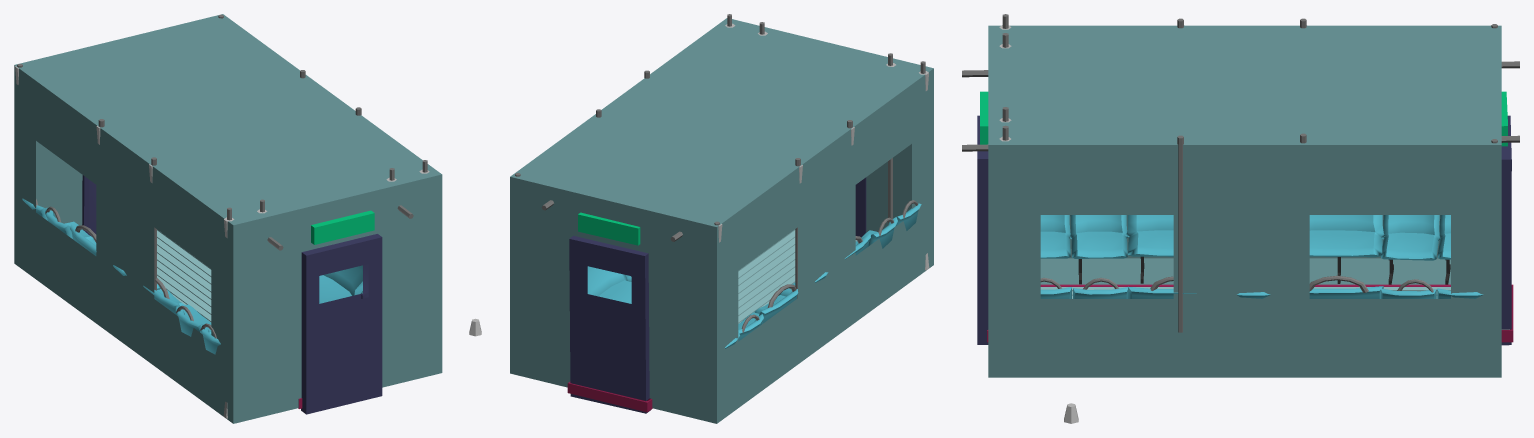
The model's file is train car.fbx.
3 views of the same model, side by side, from view 1: azimuth 30°, elevation 25°; view 2: azimuth 150°, elevation 25°; view 3: azimuth 270°, elevation 25° (orthographic). The views are drawn at different scales.
Parts seen in each view (by area): view 1: train_car, door, mid_isle_track, Long_Seat (×2), Lowpolyitems:Stop_Requested_Box, door3; view 2: train_car, door3, mid_isle_track, Stop_Requested_Box, Long_Seat, isle_track, door, Lowpolyitems:Long_Seat; view 3: train_car, Seat_Mat (×4), Long_Seat (×3), Lowpolyitems:Long_Seat, Lowpolyitems:Seat_Mat, door, door3, isle_track, Pole, mid_isle_track.
Boxes of the visible parts, bbox=[...] form: train_car: bbox=[14, 14, 442, 423]; door: bbox=[301, 234, 382, 414]; mid_isle_track: bbox=[157, 229, 211, 322]; Long_Seat (×2): bbox=[143, 265, 362, 333]; Lowpolyitems:Stop_Requested_Box: bbox=[311, 210, 374, 244]; door3: bbox=[82, 175, 96, 236]; train_car: bbox=[510, 18, 933, 423]; door3: bbox=[569, 235, 650, 413]; mid_isle_track: bbox=[738, 229, 856, 323]; Stop_Requested_Box: bbox=[578, 212, 640, 245]; Long_Seat: bbox=[587, 266, 631, 303]; isle_track: bbox=[567, 381, 652, 412]; door: bbox=[855, 177, 866, 237]; Lowpolyitems:Long_Seat: bbox=[738, 289, 798, 329]; train_car: bbox=[988, 25, 1501, 377]; Seat_Mat (×4): bbox=[1040, 215, 1450, 298]; Long_Seat (×3): bbox=[1125, 215, 1383, 298]; Lowpolyitems:Long_Seat: bbox=[1309, 215, 1385, 257]; Lowpolyitems:Seat_Mat: bbox=[1381, 215, 1440, 260]; door: bbox=[977, 115, 988, 344]; door3: bbox=[1501, 115, 1511, 345]; isle_track: bbox=[987, 284, 1513, 342]; Pole: bbox=[1177, 135, 1183, 332]; mid_isle_track: bbox=[1040, 287, 1509, 329].
Size of the model in its own units: 67.42 by 47.81 by 96.82.
